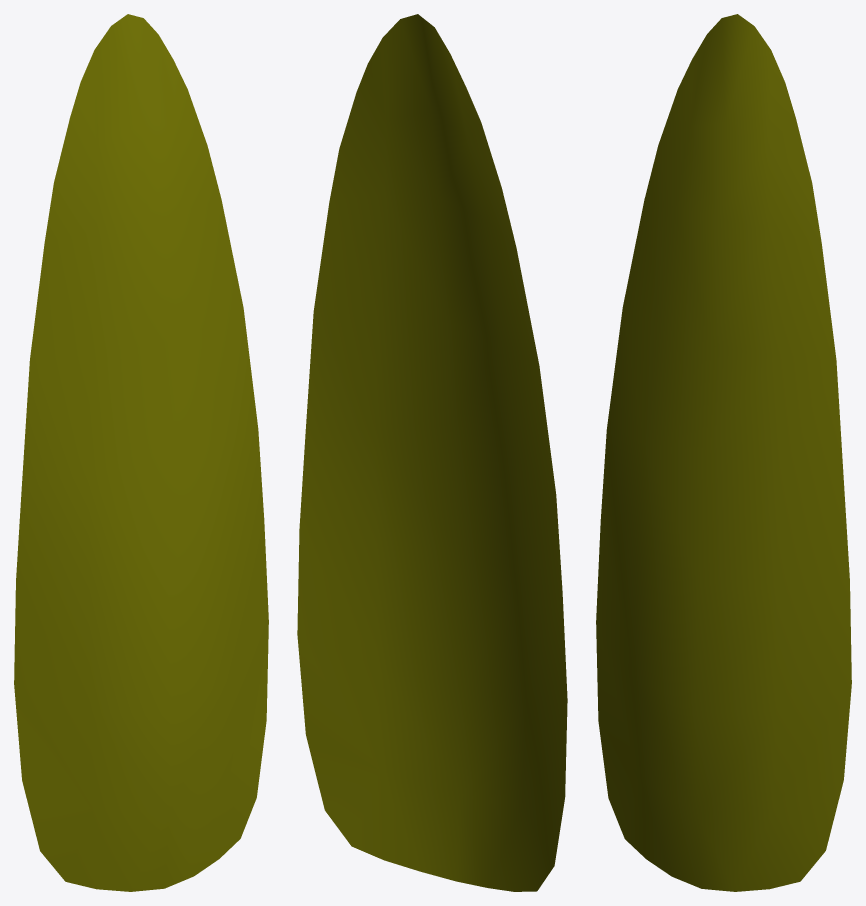
Rendered from MD_nail_point_HandL.Index.fbx.
3 renders of one model, left to right at view 1: azimuth 30°, elevation 25°; view 2: azimuth 150°, elevation 25°; view 3: azimuth 330°, elevation 25°, orthographic. The views are drawn at different scales.
Parts seen in each view (by area): view 1: MD_nail_point_HandL.Index; view 2: MD_nail_point_HandL.Index; view 3: MD_nail_point_HandL.Index.
Part boxes in pixels (x1=…): MD_nail_point_HandL.Index: x1=14, y1=14, x2=268, y2=891; MD_nail_point_HandL.Index: x1=297, y1=14, x2=567, y2=891; MD_nail_point_HandL.Index: x1=596, y1=14, x2=851, y2=891.
Bounding box in the file's own units: 0.7402 × 2.35 × 0.2227.
